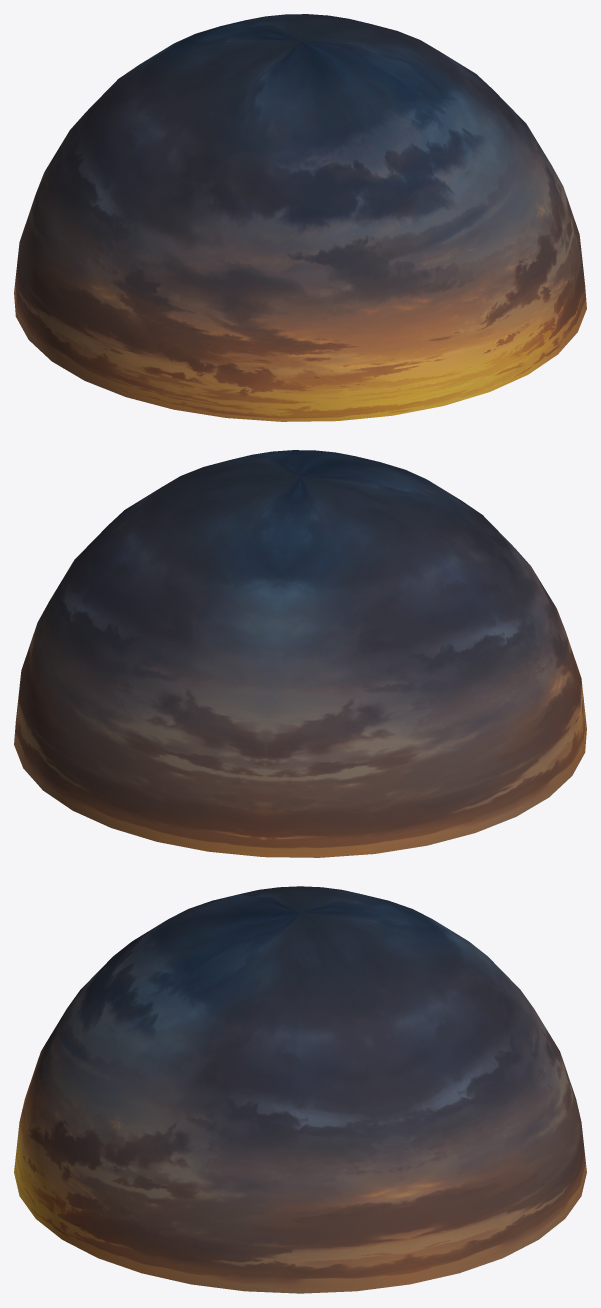
The model's file is show_doulali_skybox_01_SM.FBX.
3 views of the same model, one above another, from view 1: azimuth 30°, elevation 25°; view 2: azimuth 150°, elevation 25°; view 3: azimuth 270°, elevation 25° (orthographic).
Parts seen in each view (by area): view 1: show_libeika_skybox_01_SM; view 2: show_libeika_skybox_01_SM; view 3: show_libeika_skybox_01_SM.
Part boxes in pixels (left/top/right/bottom): show_libeika_skybox_01_SM: left=14, top=14, right=586, bottom=421; show_libeika_skybox_01_SM: left=14, top=450, right=586, bottom=857; show_libeika_skybox_01_SM: left=14, top=886, right=586, bottom=1293.
Bounding box in the file's own units: 12361 × 6180 × 12361.
1 material, 1 textured.
